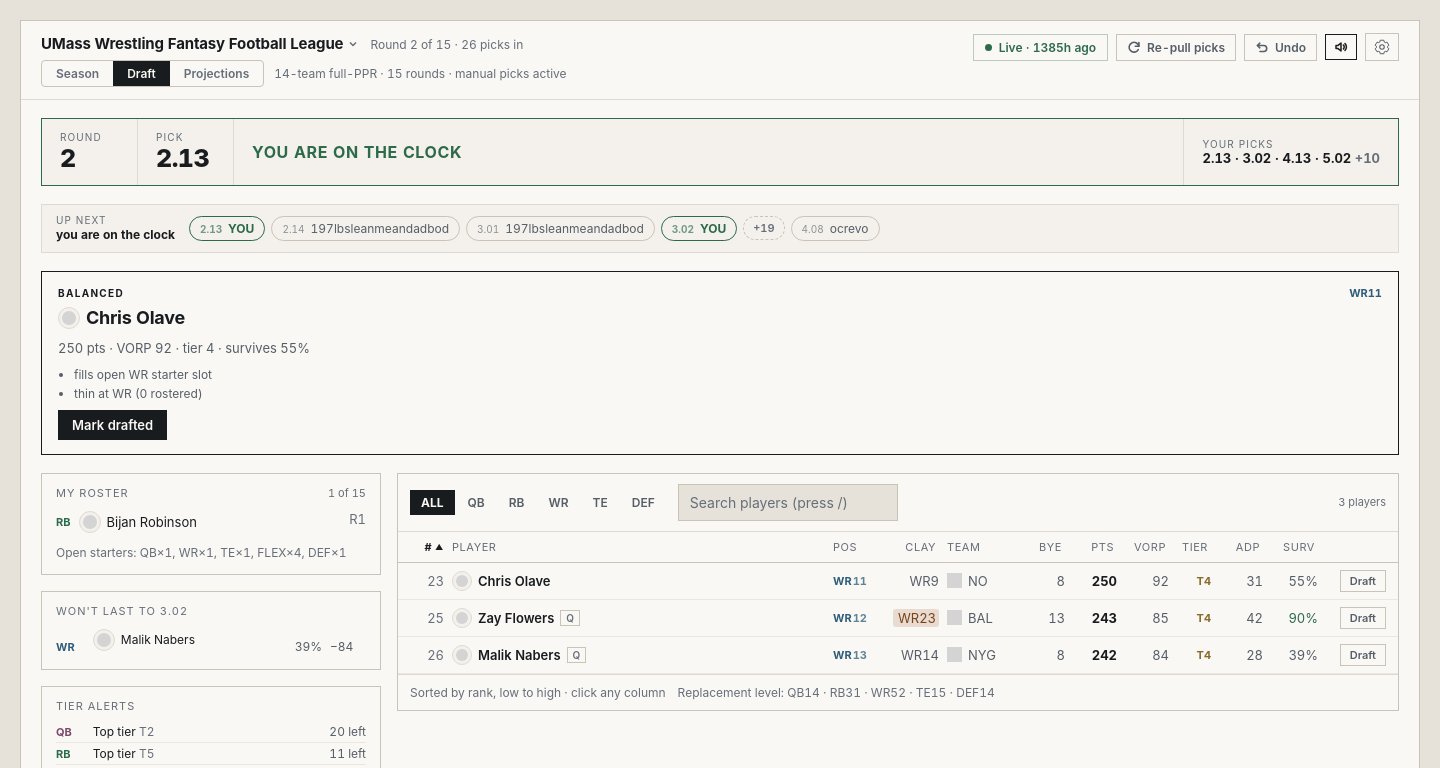
Test: re-pulling the picks › asks the backend for the picks again and says what came back
Check: the heading "UMass Wrestling Fantasy Football League" is shown, box [41,33,358,54]
Click the button "Re-pull picks" at point(1176, 47), box [1116,34,1236,60]
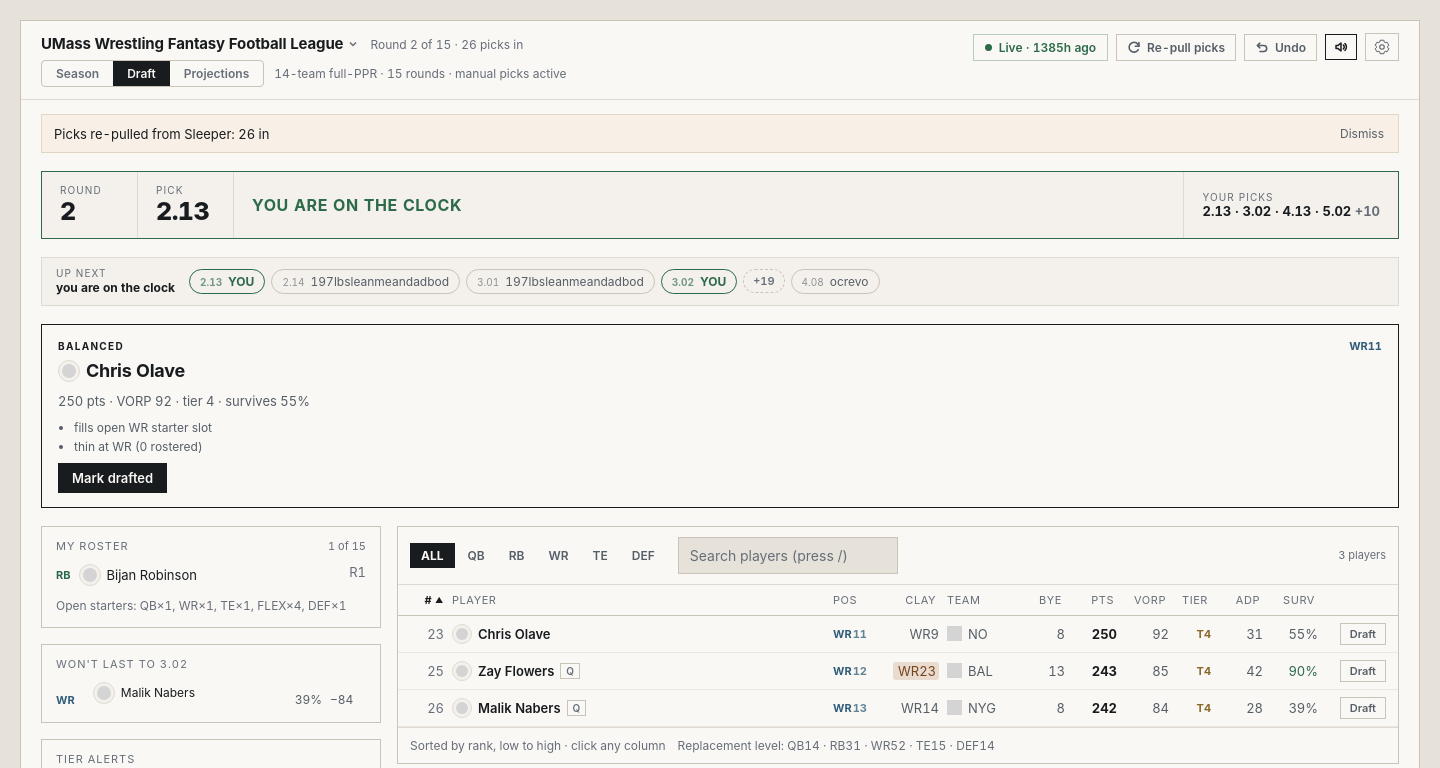
Check: the text "Picks re-pulled from Sleeper: 26 in" is shown, box [54,126,269,142]
